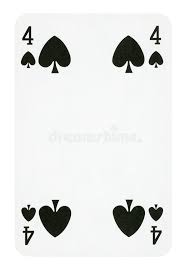four of spades: (16, 12, 171, 258)
